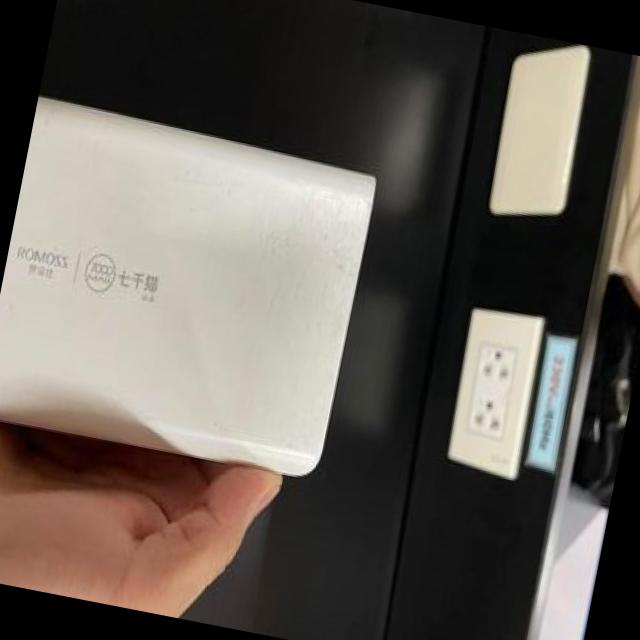portable-charger: (0, 92, 385, 496)
